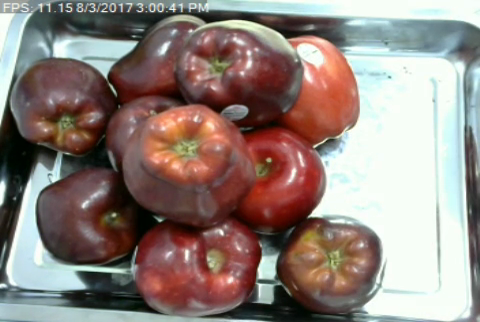Apple: (118, 101, 259, 228), (175, 18, 304, 131), (131, 216, 263, 320), (30, 165, 152, 268), (272, 213, 390, 315), (229, 123, 330, 236), (8, 54, 118, 157), (275, 33, 363, 148), (107, 10, 207, 103)
